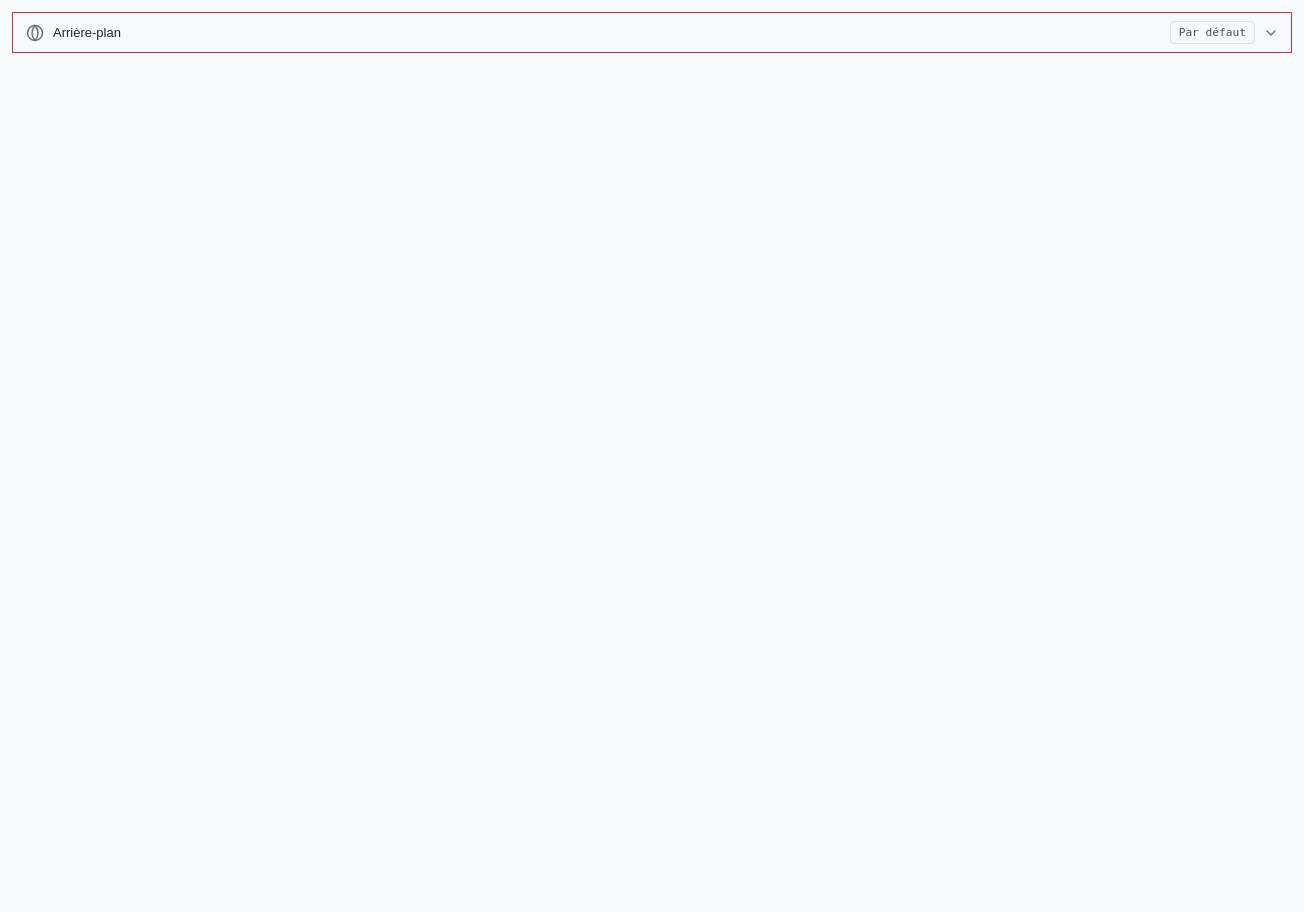
Test: BackgroundColorSelector › se replie au clic en dehors du composant
Click the button "Arrière-plan Par défaut" at (87,32), box [12, 12, 1292, 53]
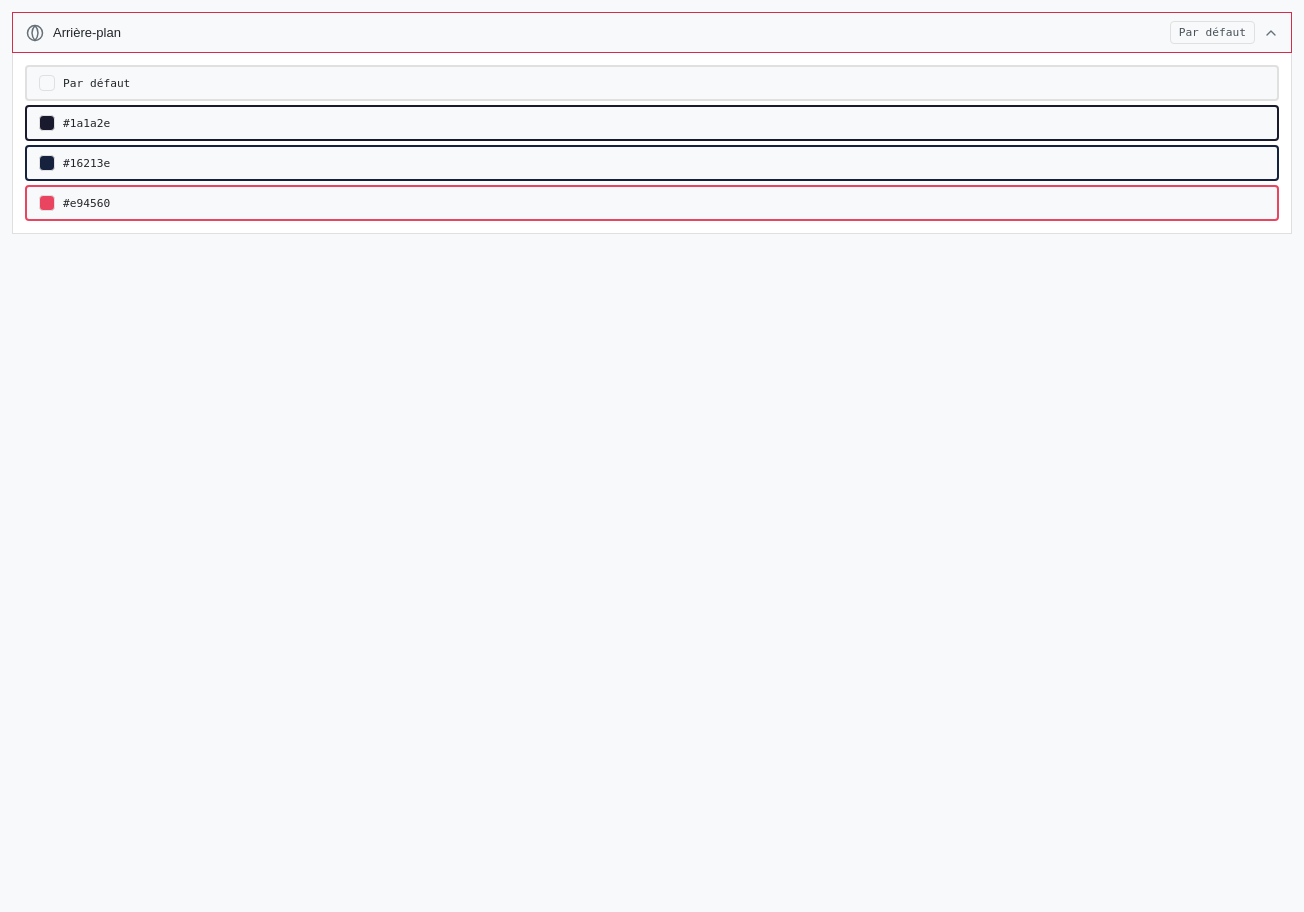
Result: the button "Arrière-plan Par défaut" is expanded at [12, 12, 1292, 53]
Press the mouse on the element showing "Arrière-plan Par défaut Par défaut #1a1a2e #16213e #e94560" at (652,462), box [12, 12, 1292, 911]
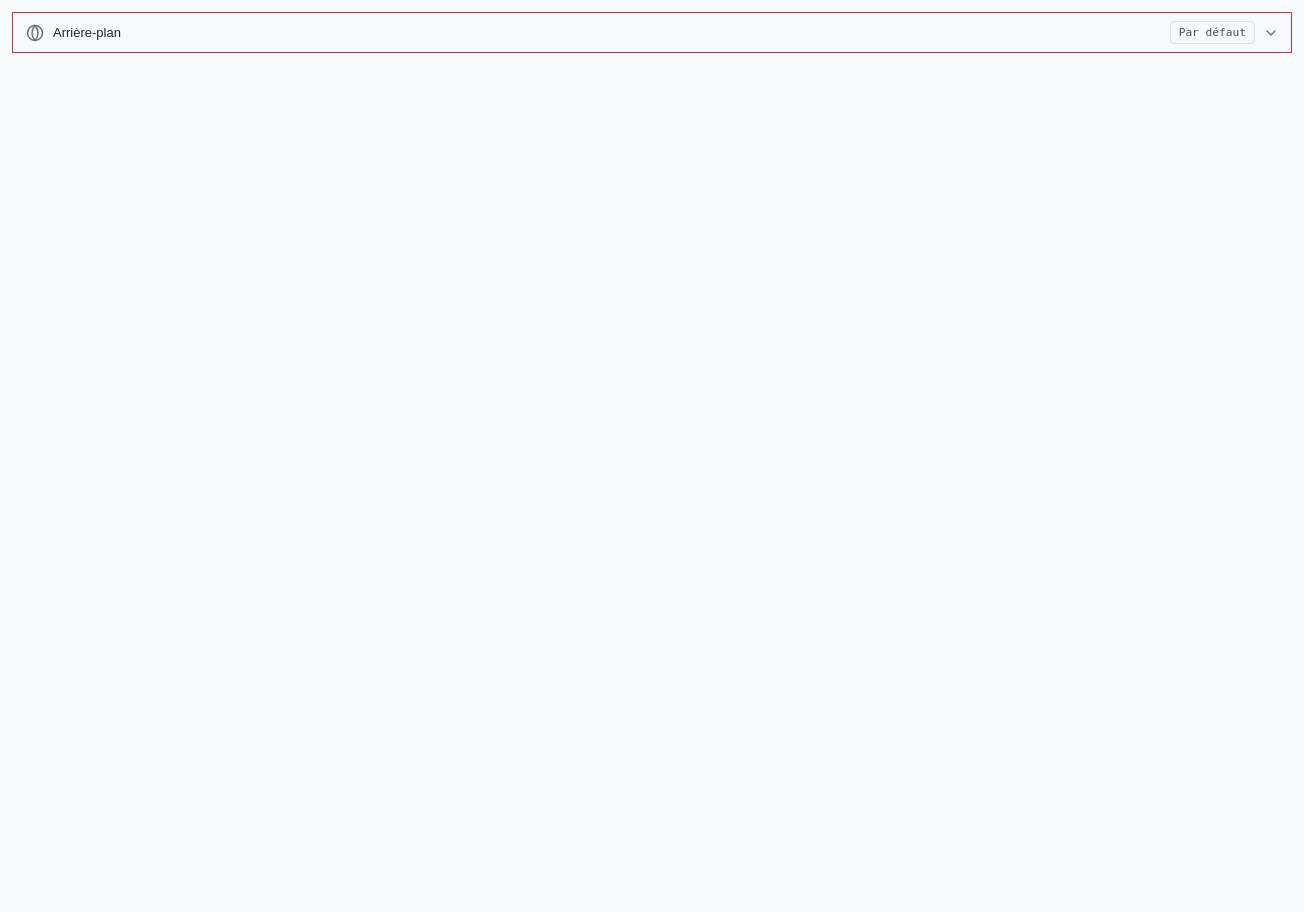
Result: the button "Arrière-plan Par défaut" is collapsed at [12, 12, 1292, 53]
